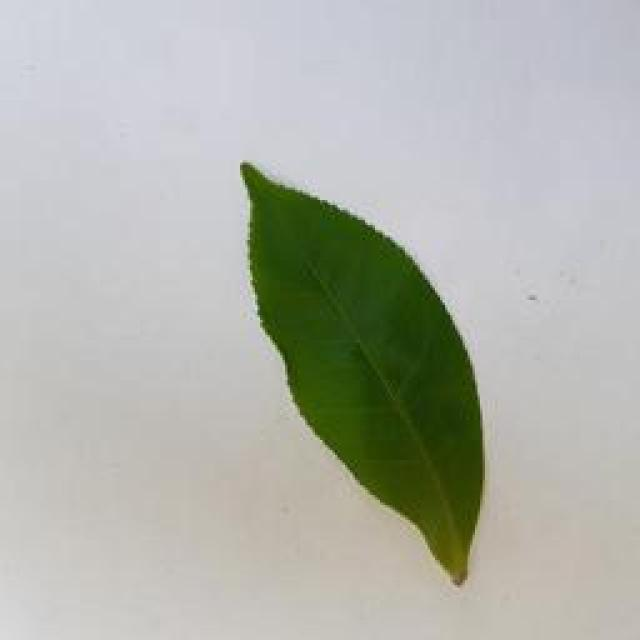Healthy: (214, 147, 495, 586)
